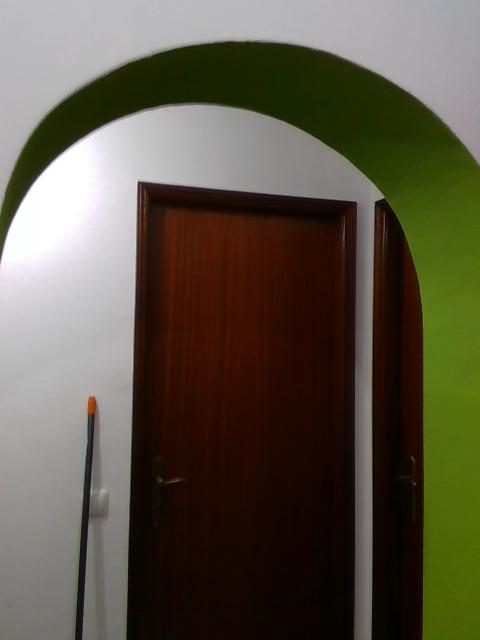door: (152, 203, 344, 640)
